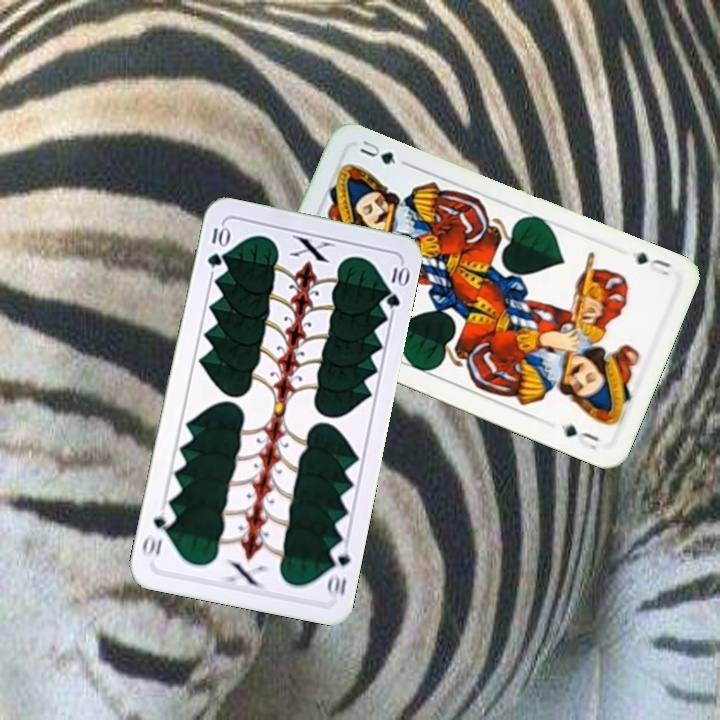G10: (323, 540, 353, 600), (203, 221, 230, 270)
GU: (628, 247, 674, 278)
